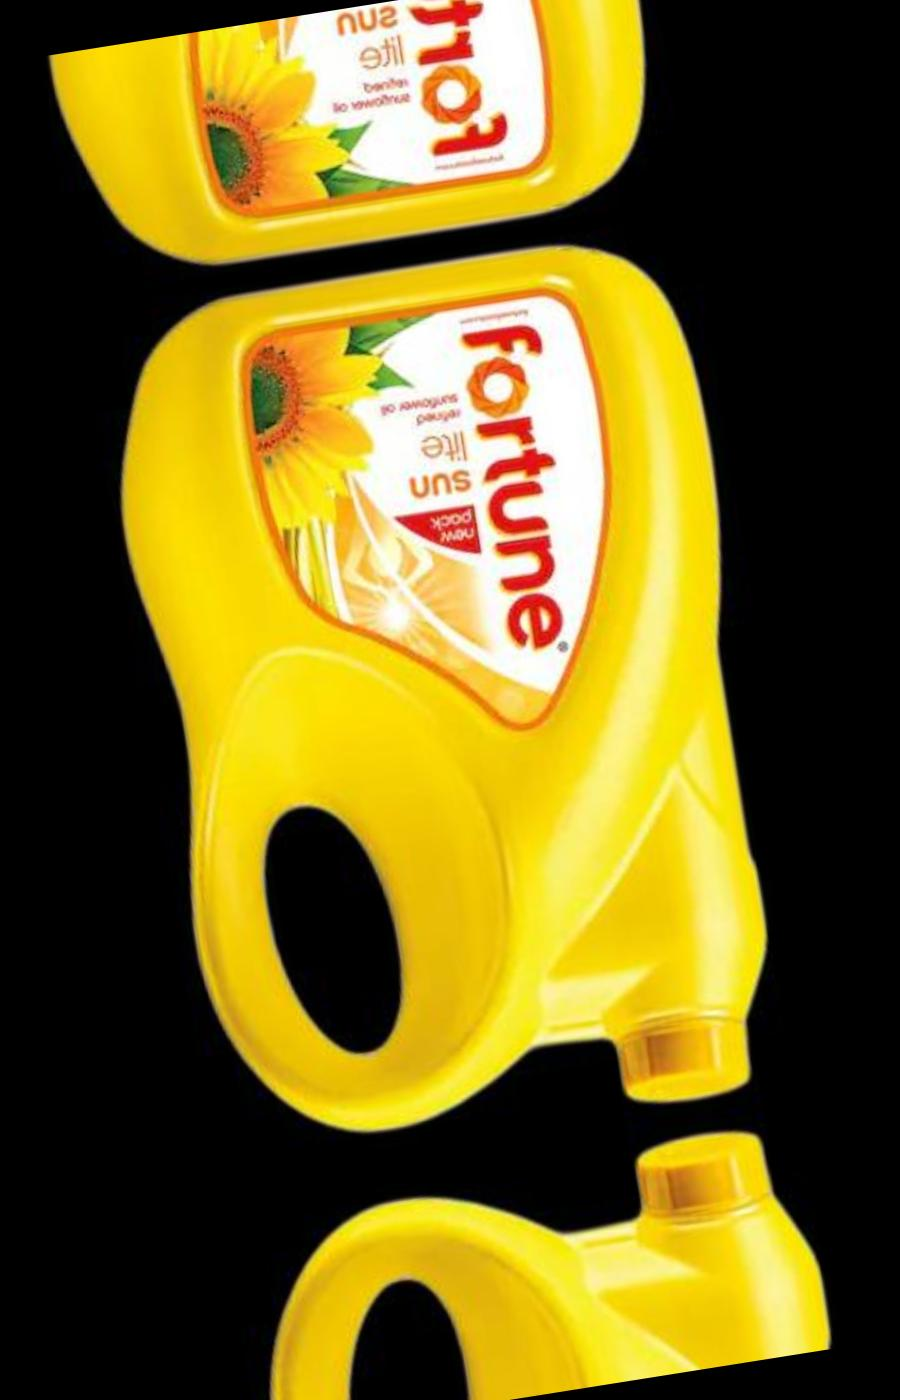Fortune Sunlite Refined Sunflower Oil 5 L: (87, 221, 816, 1172), (46, 0, 677, 289), (229, 1116, 859, 1400)
